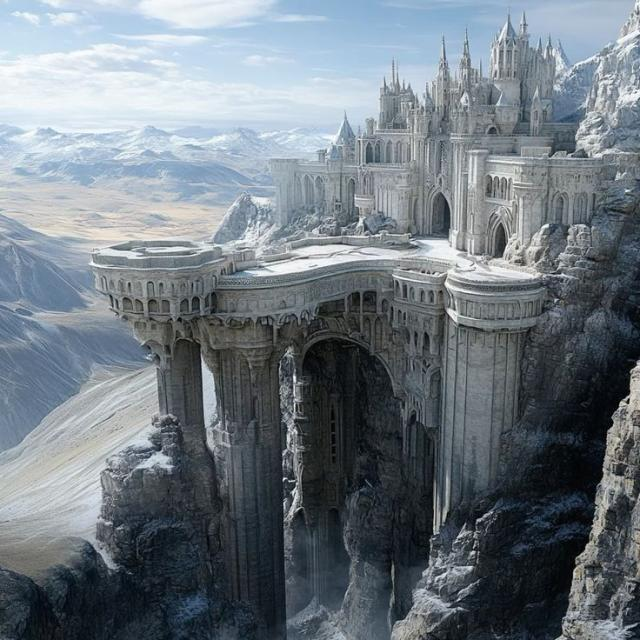castle: (202, 7, 630, 274)
